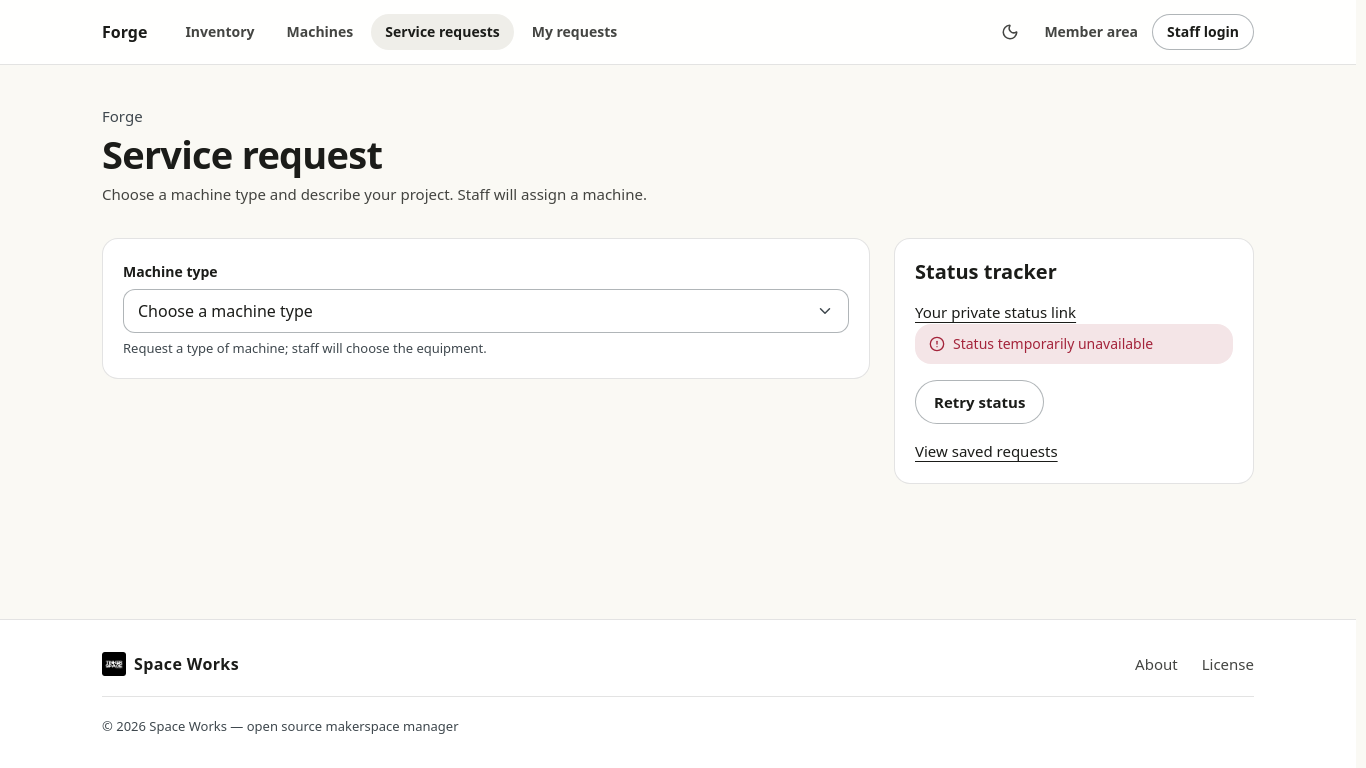
Test: public machine service page › recovers status through Retry status after a temporary failure: {"name":"StructuredApiError","status":503,"detail":"Status temporarily unavailable","body":{"det
Expected: the text "Status temporarily unavailable" is shown, [953, 334, 1153, 354]
Click the button named "Retry status". click: click(980, 402)
box: [915, 380, 1044, 424]
Wait 210105 ms
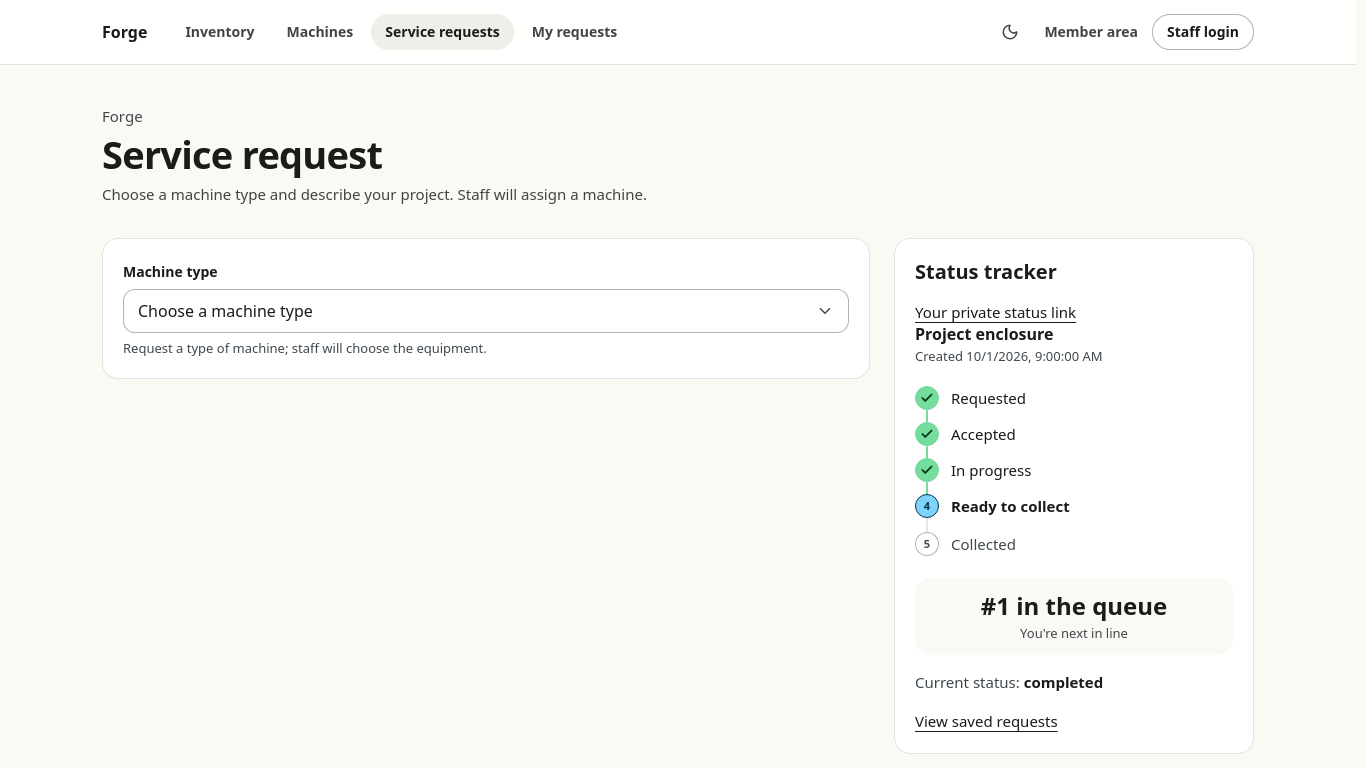
Now the text "Status temporarily unavailable" is gone
